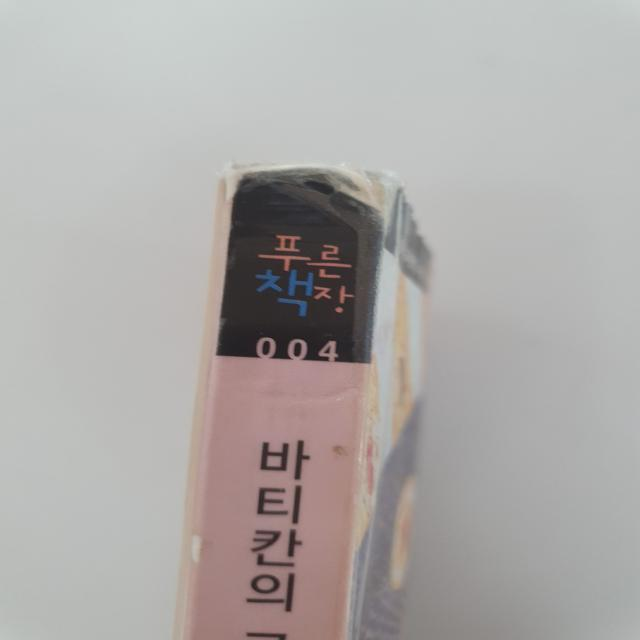Ripped: (340, 356, 389, 561), (324, 152, 403, 247), (217, 150, 323, 205)
Wornout: (179, 519, 218, 577)
